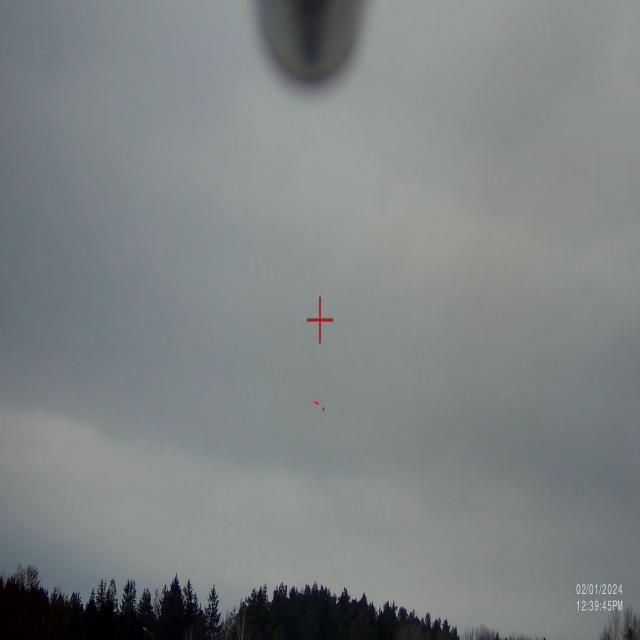entire: (310, 398, 322, 408)
